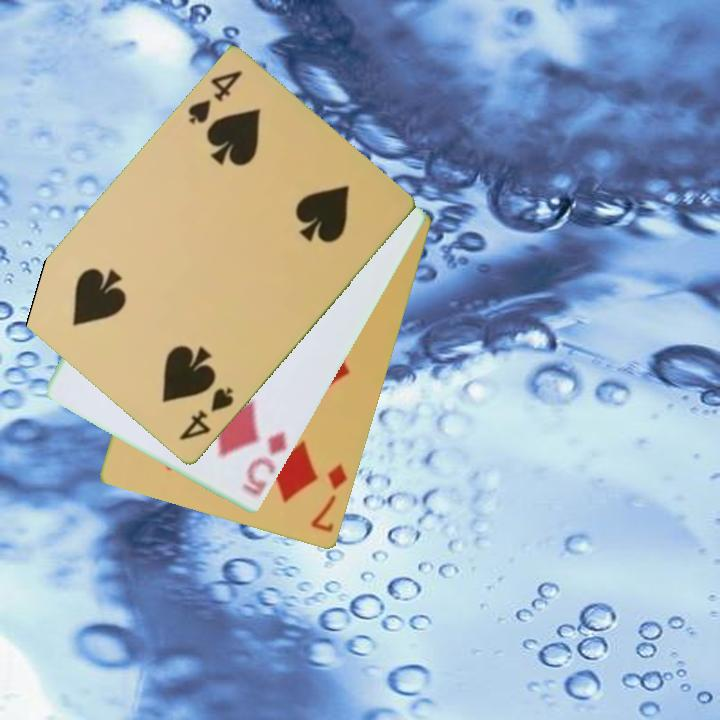4s: (175, 384, 237, 445), (184, 67, 246, 128)
5d: (239, 429, 290, 500)
7d: (307, 460, 351, 536)
